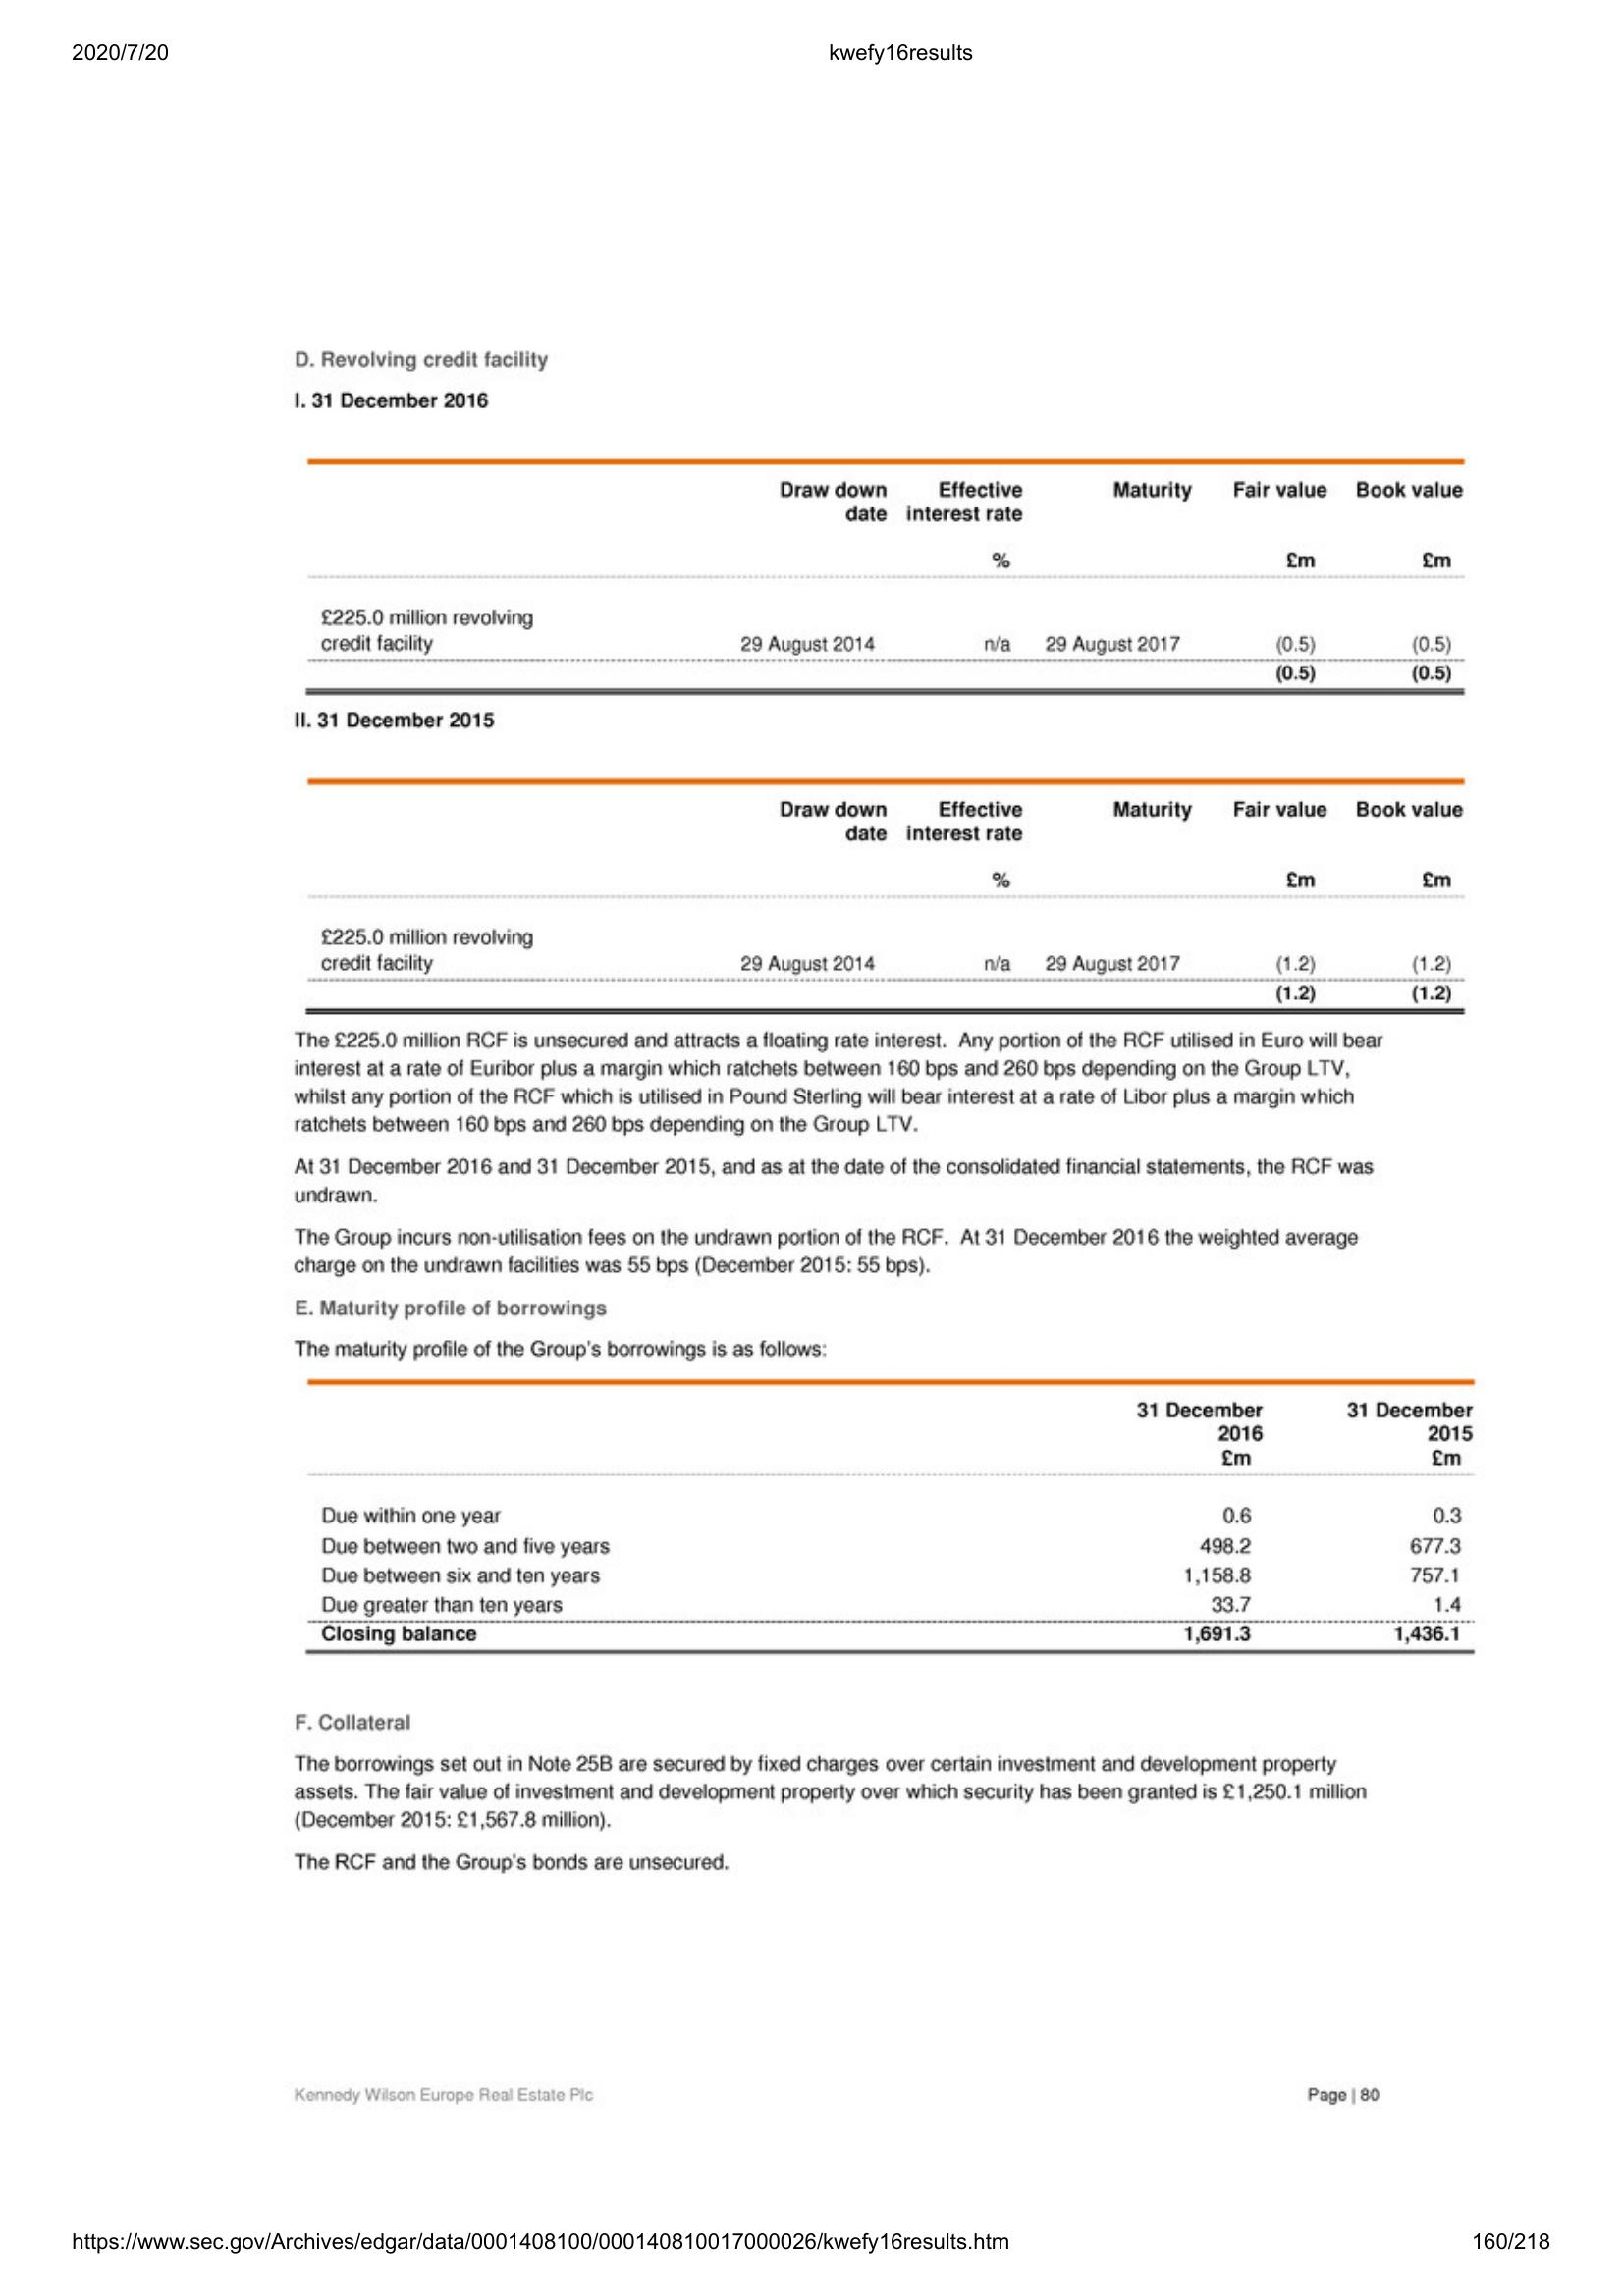table: (297, 1366, 1488, 1659), (297, 449, 1475, 702), (297, 772, 1470, 1018)
